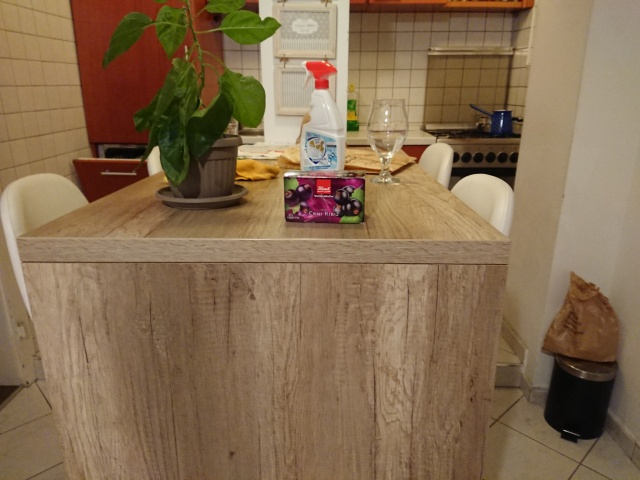Franck Black Currant Tea 60g: (281, 168, 367, 226)
